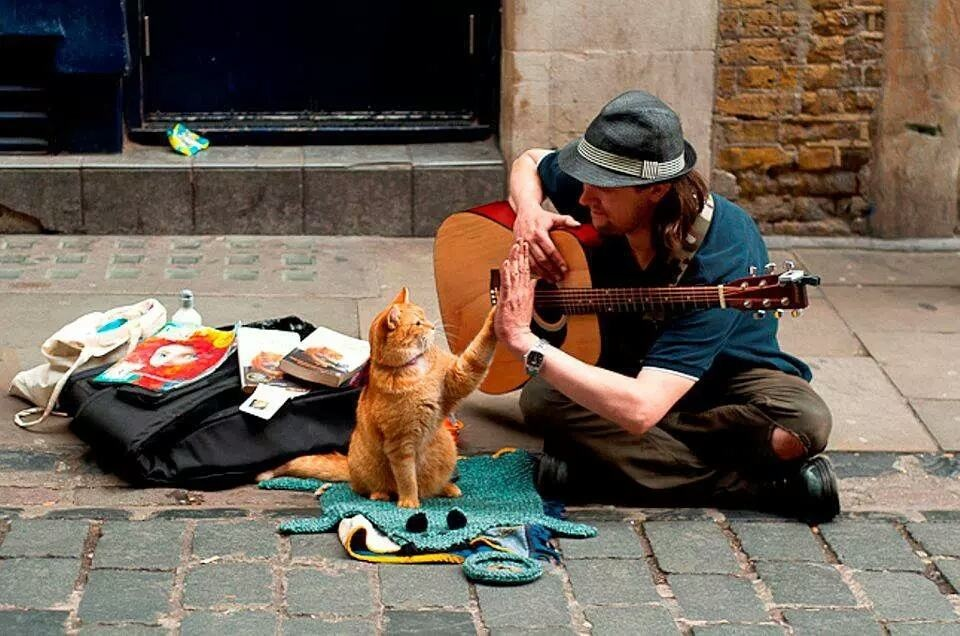cat: (260, 287, 500, 509)
